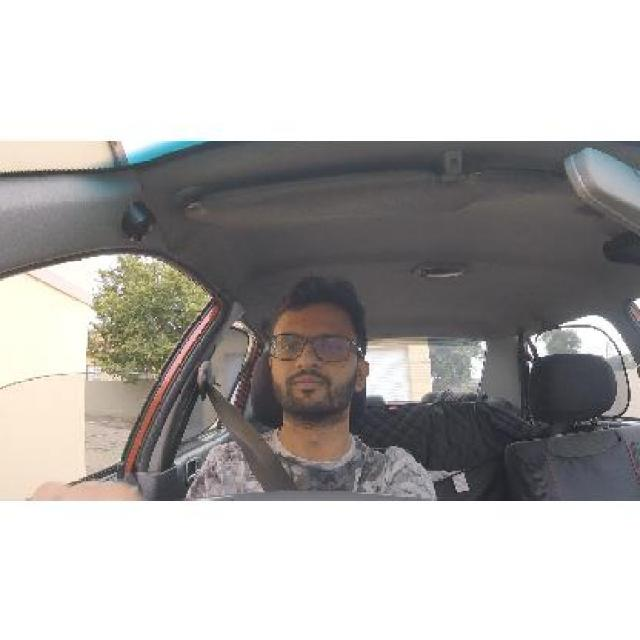person: (259, 274, 370, 429)
